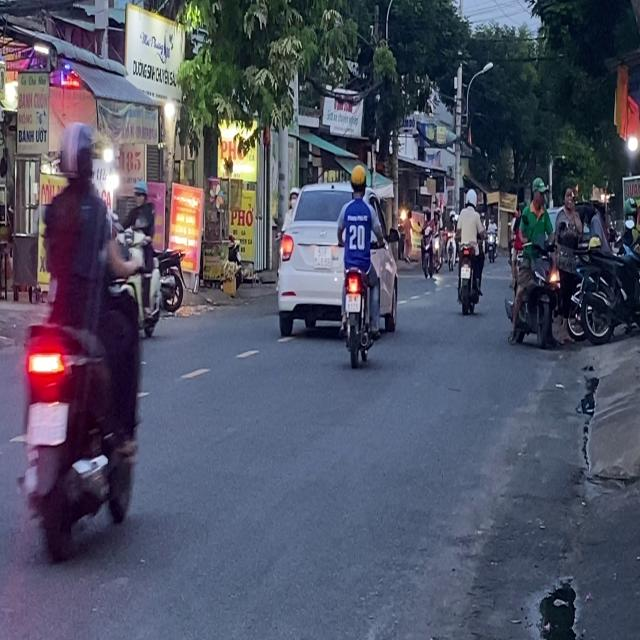helmet: (55, 120, 96, 188), (350, 164, 367, 195)
licenseplate: (15, 116, 145, 565), (505, 176, 561, 350), (336, 163, 381, 366)
motorcyclist: (531, 176, 547, 208)
nohelmet: (28, 402, 66, 443), (345, 294, 360, 312)
